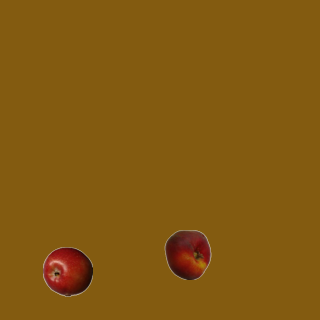Apple Braeburn: (42, 246, 92, 296)
Nectarine Flat: (162, 229, 212, 279)
